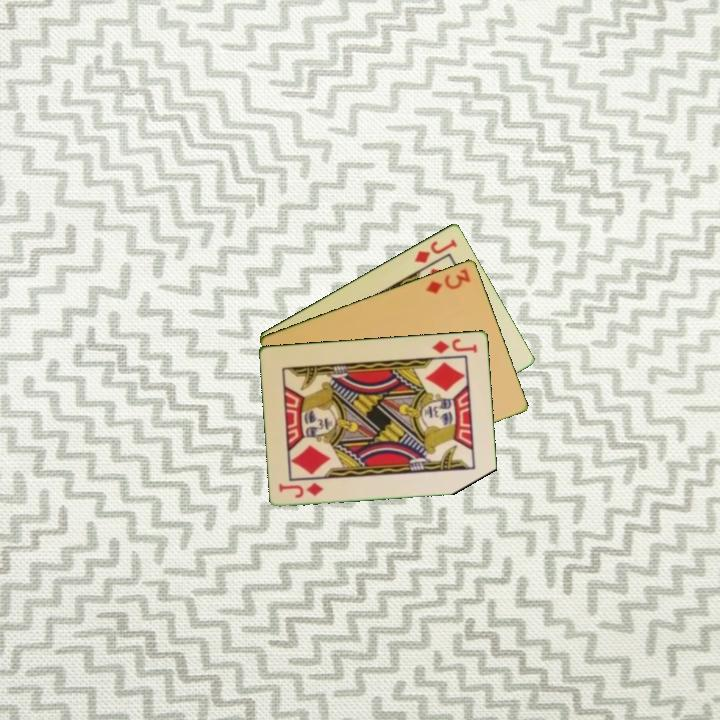3d: (422, 265, 473, 296)
Jd: (411, 235, 460, 266), (429, 335, 480, 356), (275, 479, 326, 500)
